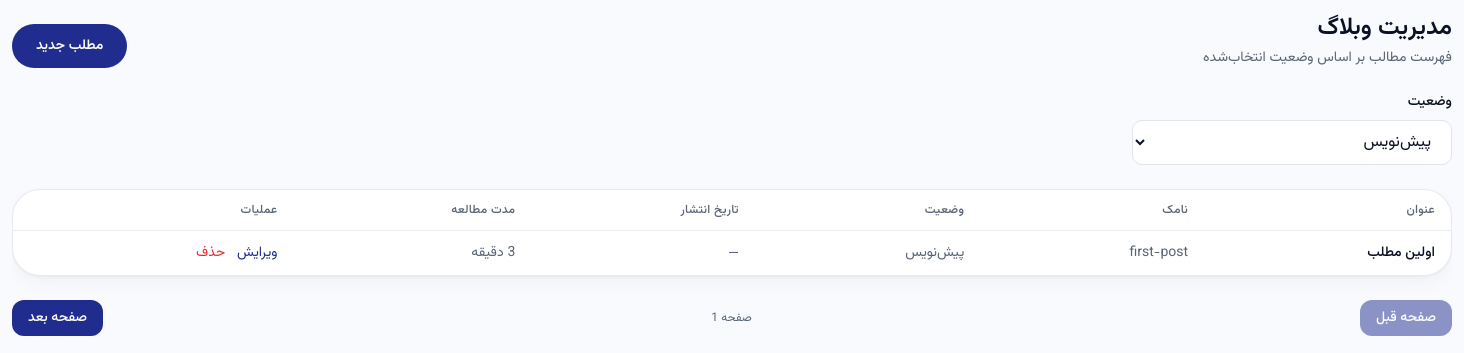
Test case: BlogListView › paginates forward using the last item id as cursor
Expected: the text "اولین مطلب" is shown, left=1204, top=231, right=1451, bottom=275
What coordinates should you click on to do the following:
click the button "صفحه بعد"
I would click on:
 (58, 318)
Its box is left=12, top=300, right=103, bottom=336.
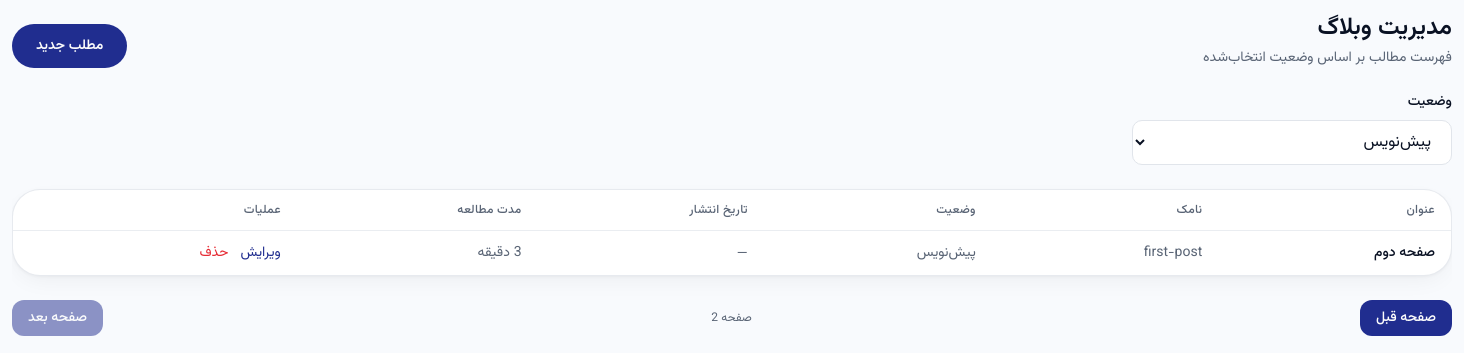
Expected: the text "صفحه دوم" is shown, left=1218, top=231, right=1451, bottom=275
